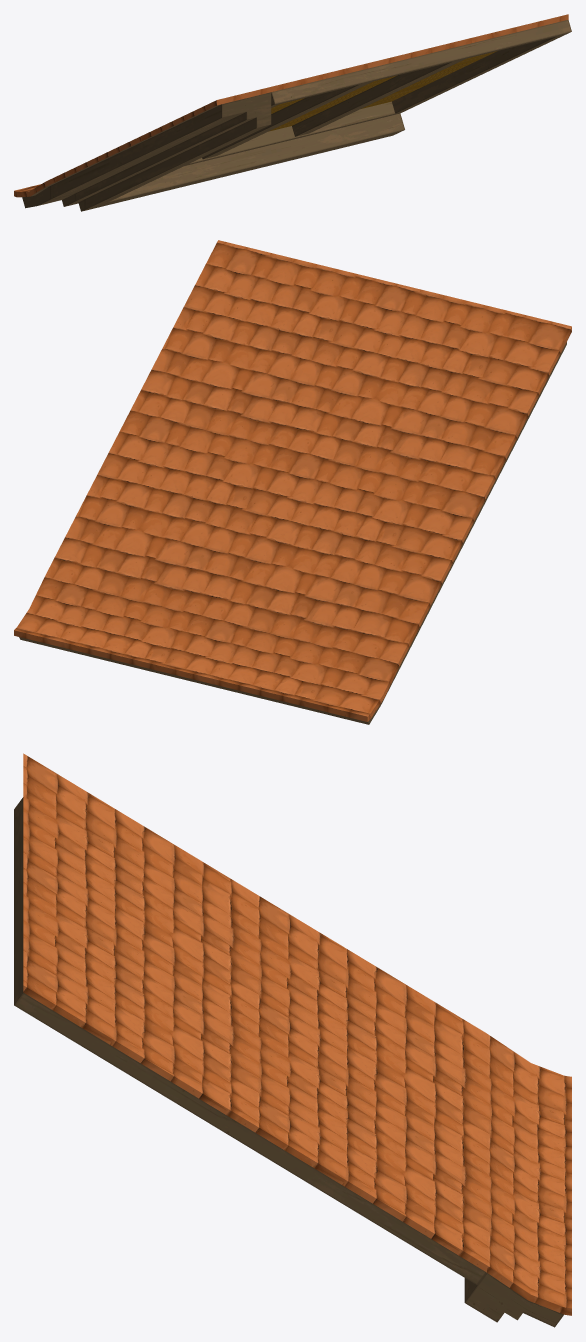
The model's file is SM_building_roof_05.glb.
3 renders of one model, top to bottom at view 1: azimuth 30°, elevation 25°; view 2: azimuth 150°, elevation 25°; view 3: azimuth 270°, elevation 25°, orthographic. The views are drawn at different scales.
Visible parts, largest first — view 1: SM_building_roof_05; view 2: SM_building_roof_05; view 3: SM_building_roof_05.
Part boxes in pixels (left/top/right/bottom): SM_building_roof_05: left=14, top=14, right=571, bottom=211; SM_building_roof_05: left=14, top=240, right=571, bottom=724; SM_building_roof_05: left=14, top=753, right=571, bottom=1327.
Size of the model in its own units: 7.1 by 4.89 by 7.22.
Materials: 3 (3 with a texture image).
